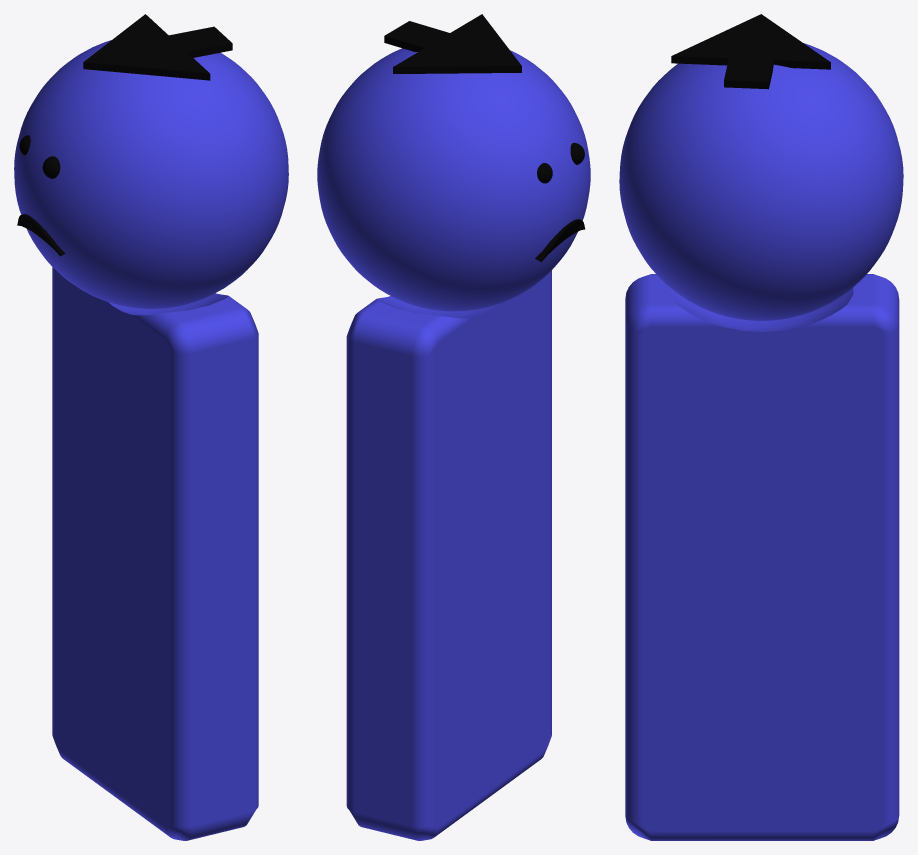
File: purple_sad.obj
3 renders of one model, left to right at view 1: azimuth 30°, elevation 25°; view 2: azimuth 150°, elevation 25°; view 3: azimuth 270°, elevation 25°, orthographic. The views are drawn at different scales.
Parts seen in each view (by area): view 1: 1_Curve.002_Curve.002, 5.002_Curve.002_Curve.003_5.002_Curve.002_Curve.001; view 2: 1_Curve.002_Curve.002, 5.002_Curve.002_Curve.003_5.002_Curve.002_Curve.001; view 3: 1_Curve.002_Curve.002, 5.002_Curve.002_Curve.003_5.002_Curve.002_Curve.001.
Boxes of the visible parts, box(x1,y1,x2,y2) form: 1_Curve.002_Curve.002: box(14, 40, 288, 840); 5.002_Curve.002_Curve.003_5.002_Curve.002_Curve.001: box(17, 14, 232, 256); 1_Curve.002_Curve.002: box(317, 48, 590, 840); 5.002_Curve.002_Curve.003_5.002_Curve.002_Curve.001: box(384, 14, 585, 261); 1_Curve.002_Curve.002: box(619, 43, 903, 840); 5.002_Curve.002_Curve.003_5.002_Curve.002_Curve.001: box(671, 14, 830, 89).
Bounding box in the file's own units: 0.1677 × 0.4993 × 0.1661.
